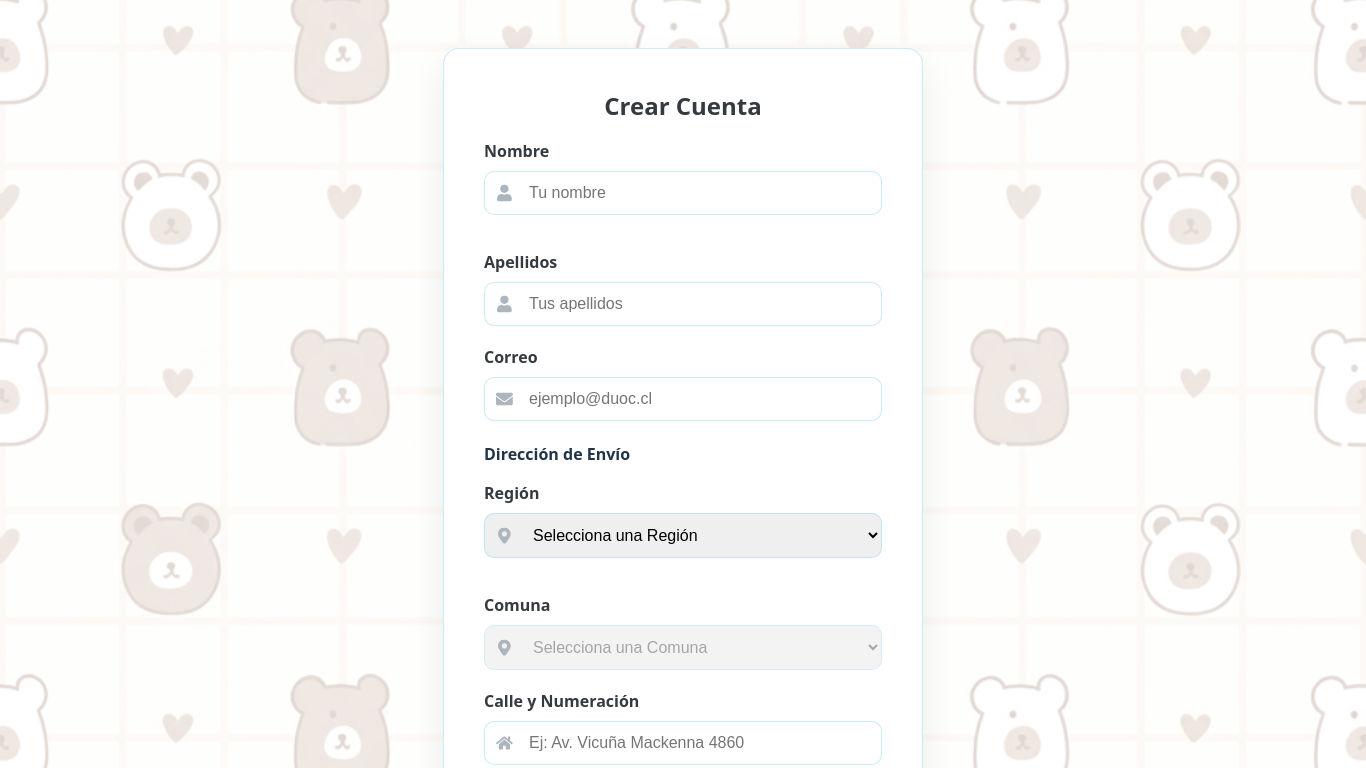
Test: Componente: RegisterForm › debería cargar comunas al seleccionar una región y resetearla al cambiar
Select "Región Metropolitana de Santiago" in the dropdown labelled "Región" at (683, 536), box 484,513 -> 882,558
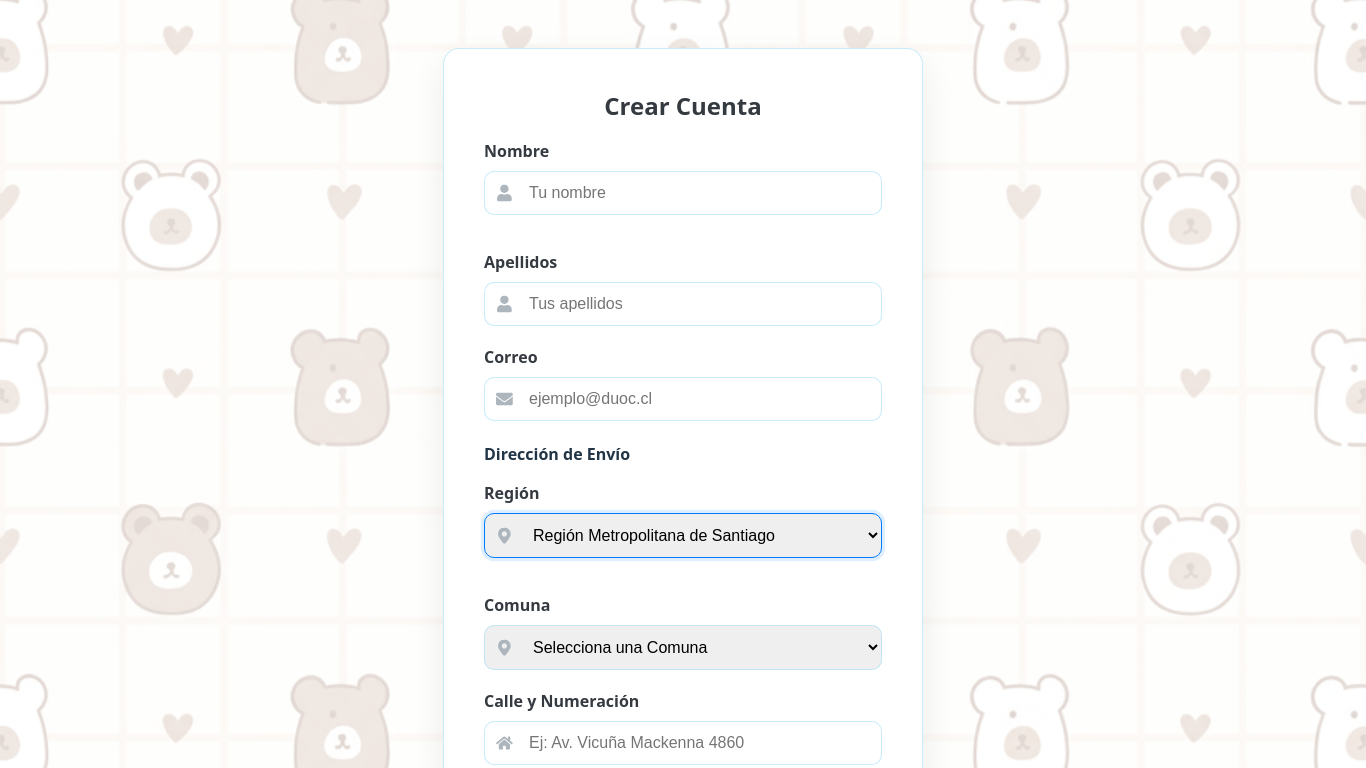
Expected: the dropdown labelled "Comuna" is enabled, 484,625 -> 882,670
